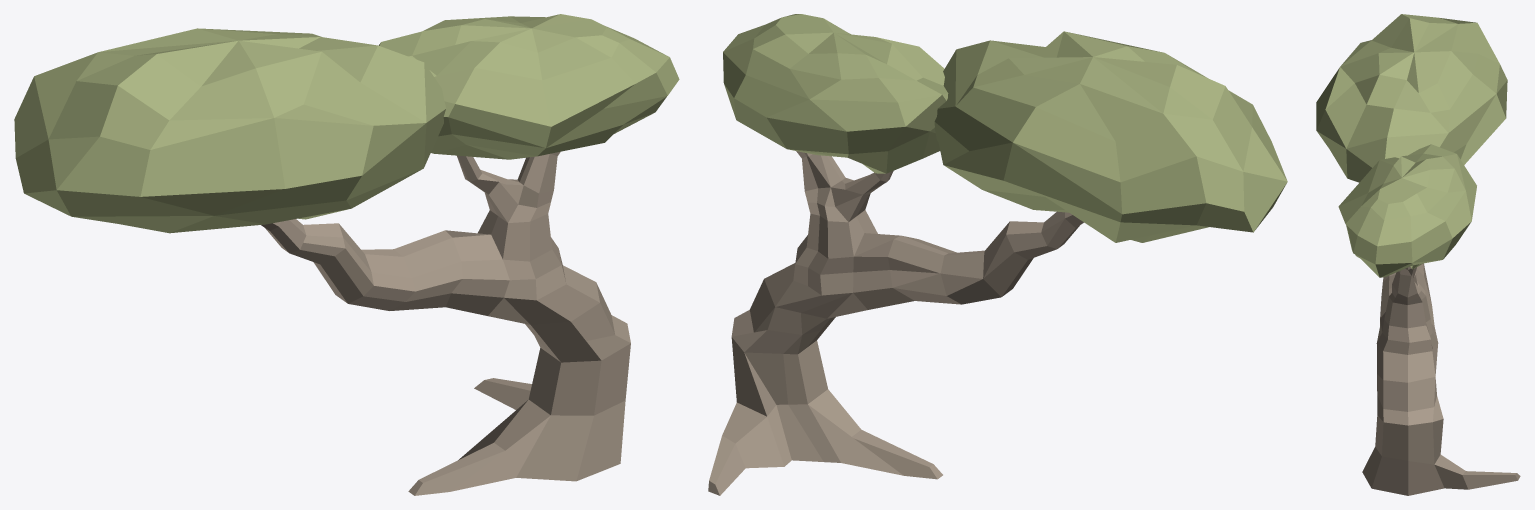
Rendered from ER_Asset_Tree02.fbx.
The picture shows the model from 3 angles, left to right: view 1: azimuth 30°, elevation 25°; view 2: azimuth 150°, elevation 25°; view 3: azimuth 270°, elevation 25°; orthographic projection. The views are drawn at different scales.
Parts seen in each view (by area): view 1: polySurface3486; view 2: polySurface3486; view 3: polySurface3486.
Boxes of the visible parts, x1=… form: polySurface3486: x1=14, y1=14, x2=679, y2=495; polySurface3486: x1=708, y1=14, x2=1287, y2=495; polySurface3486: x1=1316, y1=14, x2=1520, y2=495.
Size of the model in its own units: 7.44 by 5.87 by 3.26.
